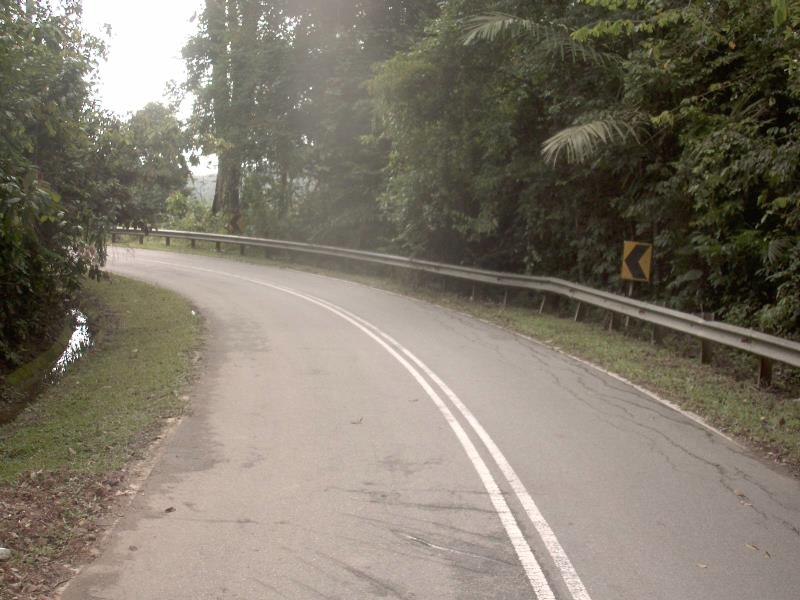traffic_sign: (610, 230, 660, 294)
